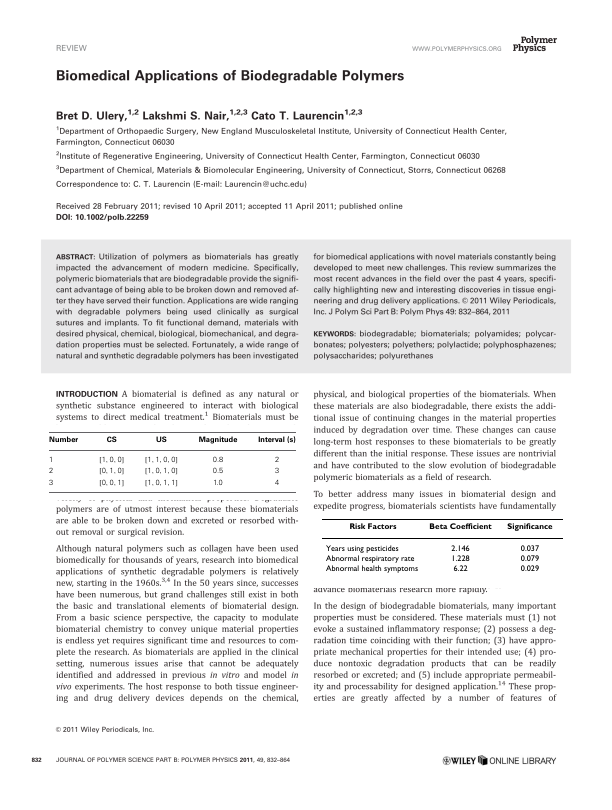borderless: (320, 517, 564, 582), (48, 430, 296, 492)
cell: (325, 564, 419, 574), (325, 554, 415, 564), (325, 544, 399, 553), (428, 522, 492, 531), (348, 522, 397, 531), (506, 522, 553, 531), (197, 436, 238, 445), (257, 436, 296, 445), (143, 455, 178, 464), (143, 478, 178, 487), (47, 436, 79, 445), (143, 467, 178, 475), (98, 455, 125, 464), (98, 478, 125, 487), (98, 467, 125, 475), (519, 554, 540, 564), (519, 564, 540, 574), (450, 554, 470, 564), (519, 544, 540, 553), (450, 544, 470, 553), (452, 564, 468, 574), (154, 436, 167, 445), (105, 436, 117, 445), (211, 455, 224, 463), (211, 467, 224, 474), (212, 478, 223, 486), (47, 455, 54, 463), (273, 455, 279, 463), (48, 478, 54, 486), (273, 478, 279, 486), (48, 467, 54, 474), (273, 467, 279, 474)
